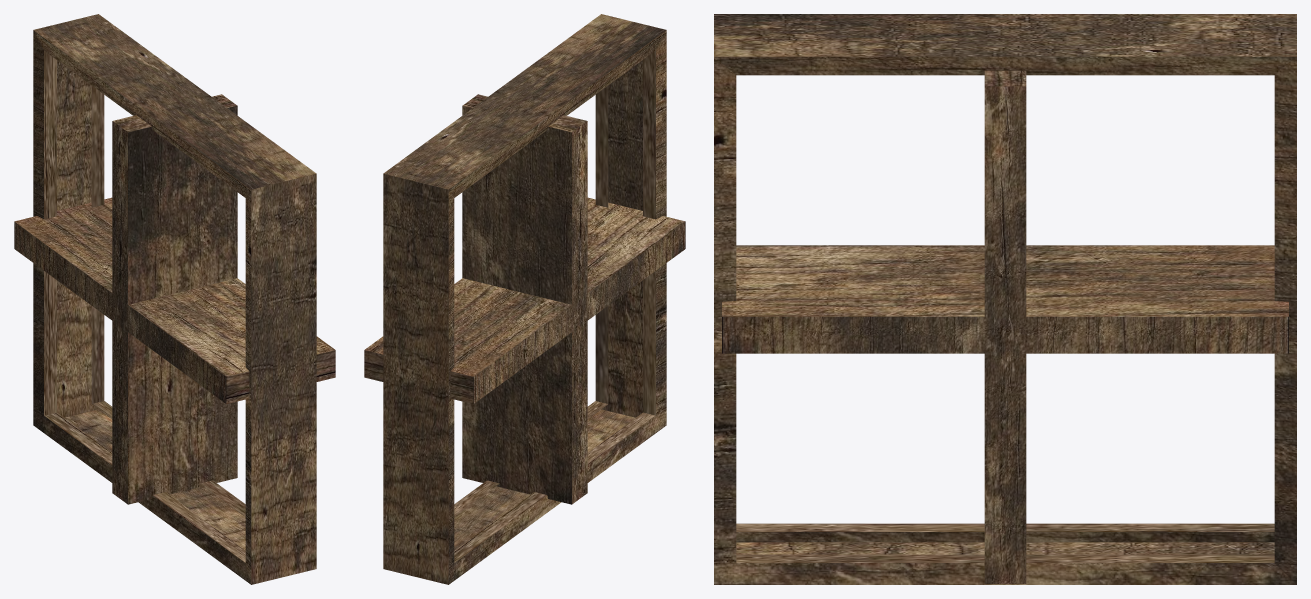
File: frame.fbx
3 views of the same model, side by side, from view 1: azimuth 30°, elevation 25°; view 2: azimuth 150°, elevation 25°; view 3: azimuth 270°, elevation 25° (orthographic). The views are drawn at different scales.
Parts seen in each view (by area): view 1: pasted__polySurface69; view 2: pasted__polySurface69; view 3: pasted__polySurface69.
Boxes of the visible parts, left/top/right/bottom form: pasted__polySurface69: left=14, top=14, right=335, bottom=584; pasted__polySurface69: left=364, top=14, right=685, bottom=584; pasted__polySurface69: left=714, top=14, right=1296, bottom=584.
Size of the model in its own units: 0.5991 by 2.07 by 2.07.
